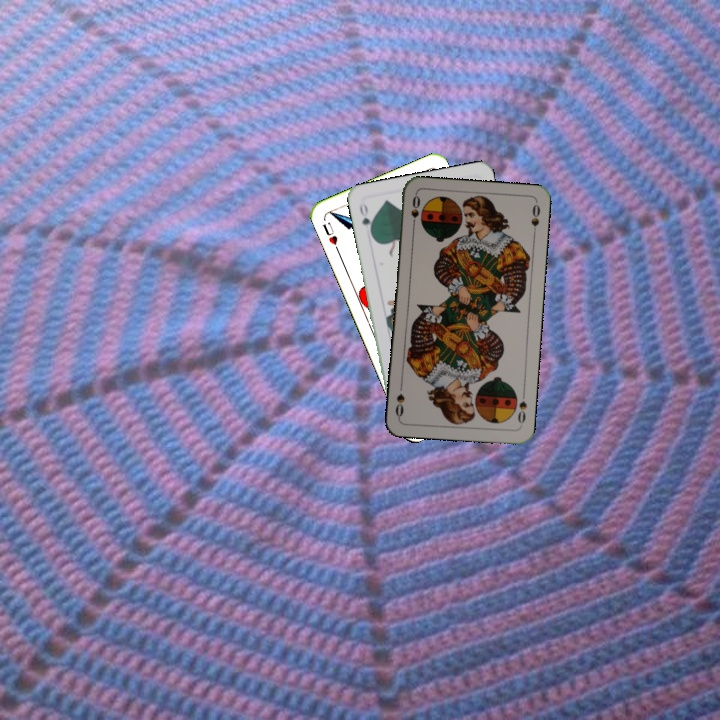GO: (355, 199, 375, 238)
HU: (318, 218, 341, 254)
SO: (407, 191, 422, 232), (514, 388, 529, 428)
